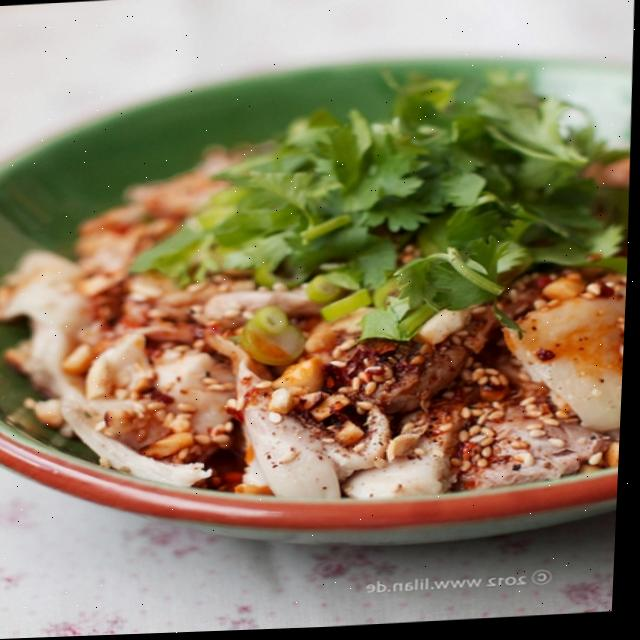鸡肉料理 含炸鸡: (0, 32, 638, 559)
